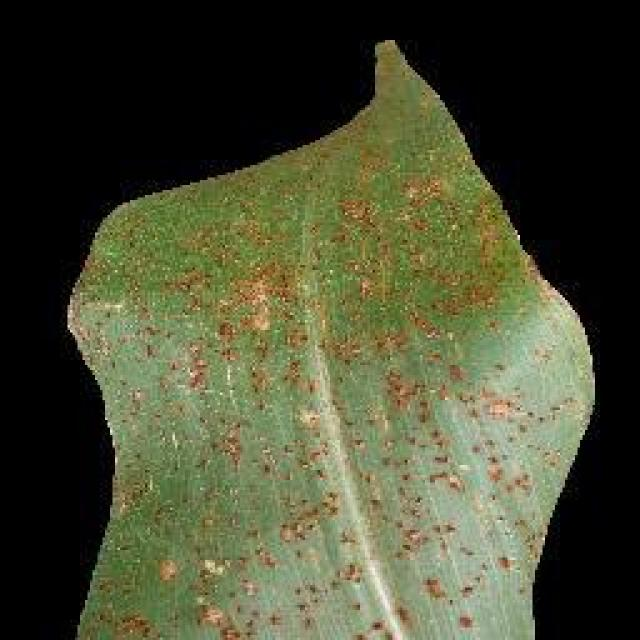Corn Common Rust: (109, 193, 504, 542)
